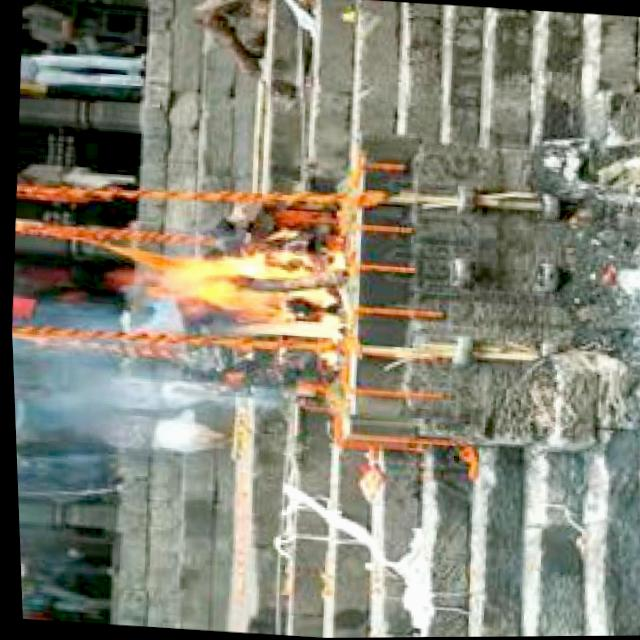Fire: (129, 240, 350, 347)
